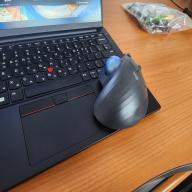mouse: (91, 51, 150, 131)
